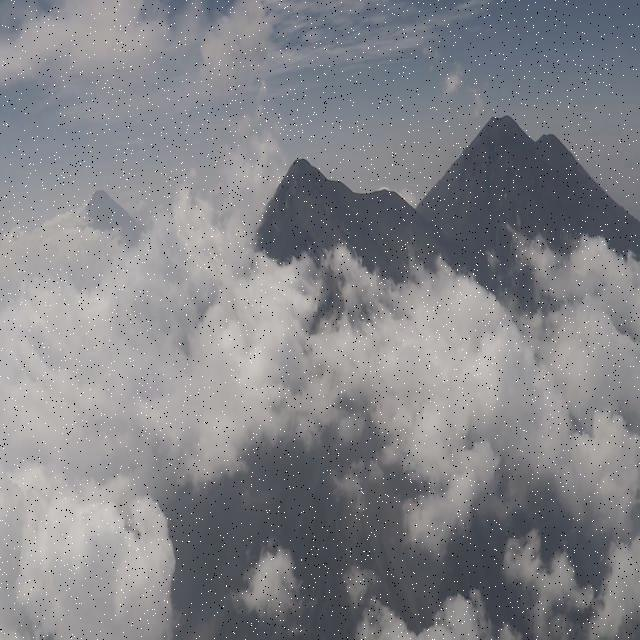Plume: (0, 0, 170, 116), (195, 0, 272, 120)
Summit: (268, 148, 354, 199)
